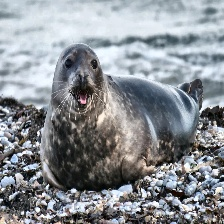seal: (34, 43, 204, 200)
